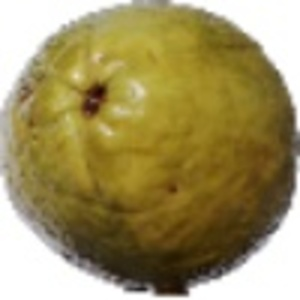goiaba: (5, 3, 297, 286)
